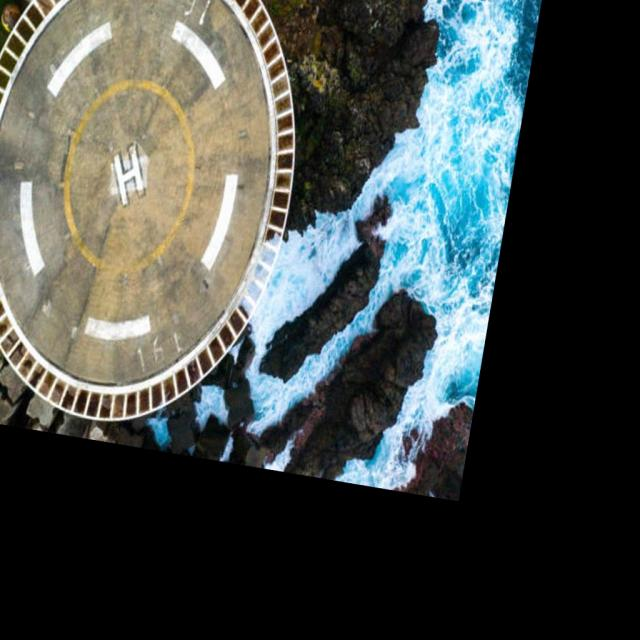helipad: (60, 72, 194, 279)
